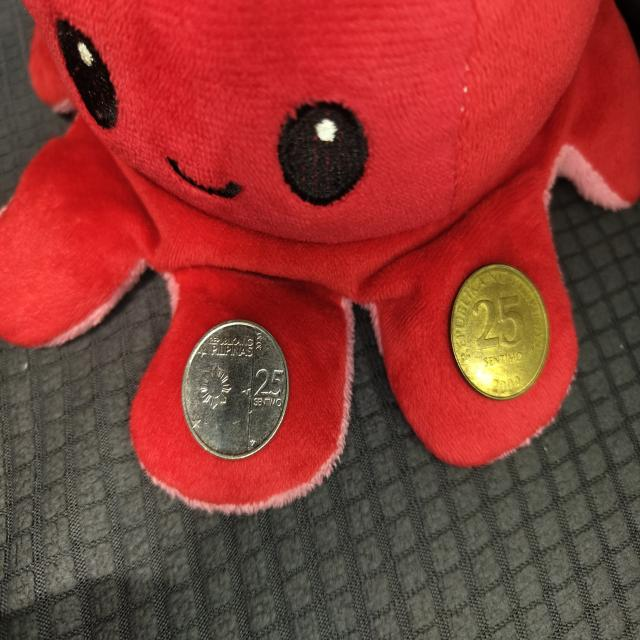25 cents: (180, 313, 294, 461)
25 cents-old: (446, 261, 550, 407)
